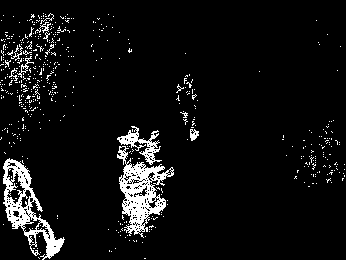person: (2, 155, 66, 260), (175, 72, 200, 144)
